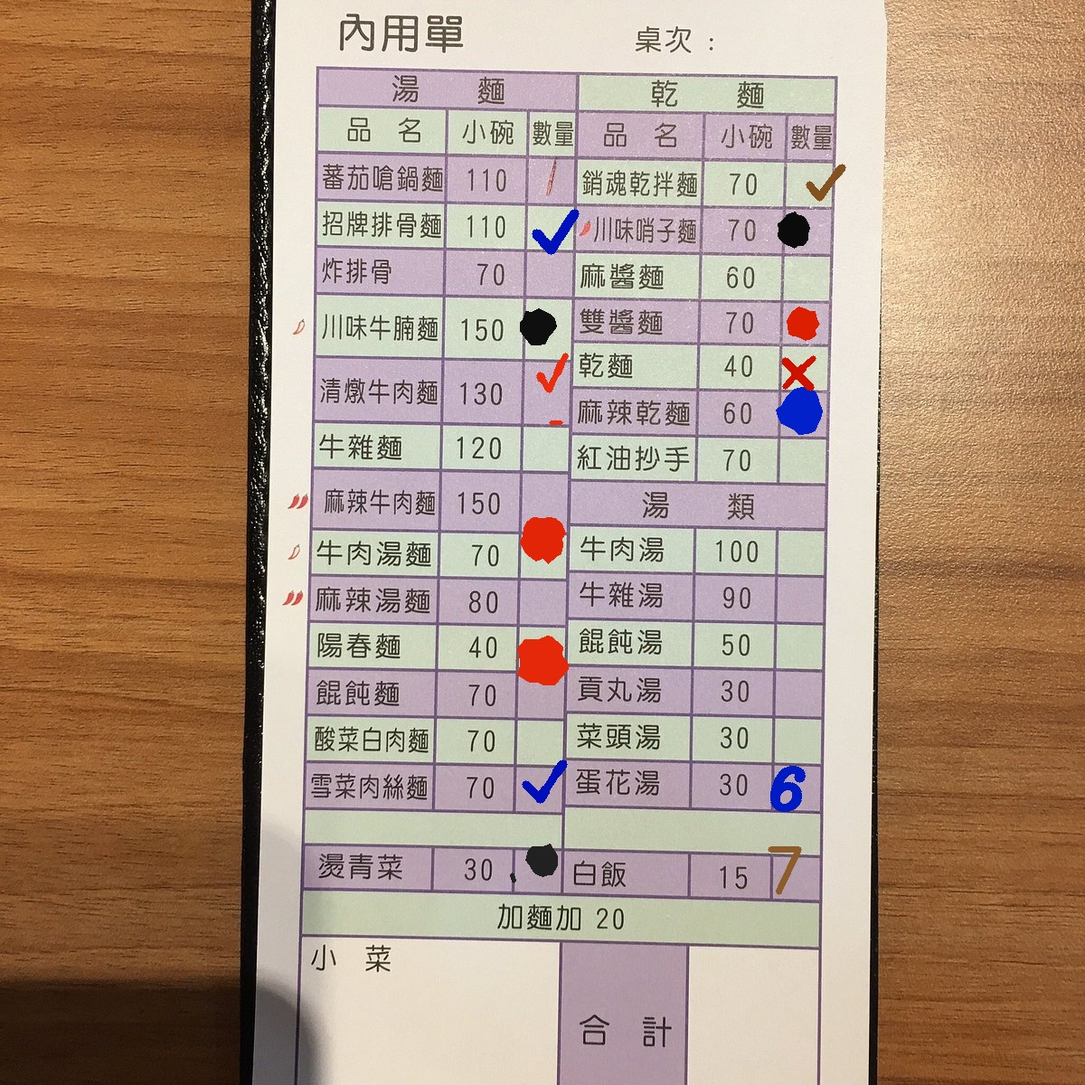marked_circle: (524, 297, 570, 359), (780, 388, 828, 434), (519, 532, 567, 578), (780, 298, 828, 344), (517, 623, 565, 669), (782, 206, 830, 252), (514, 846, 561, 892)
marked_number_6: (772, 765, 820, 811)
marked_number_7: (772, 854, 820, 901)
marked_tick: (521, 360, 567, 422), (525, 203, 573, 250), (786, 159, 834, 205), (514, 762, 562, 808)
marked_x: (780, 344, 828, 391)
